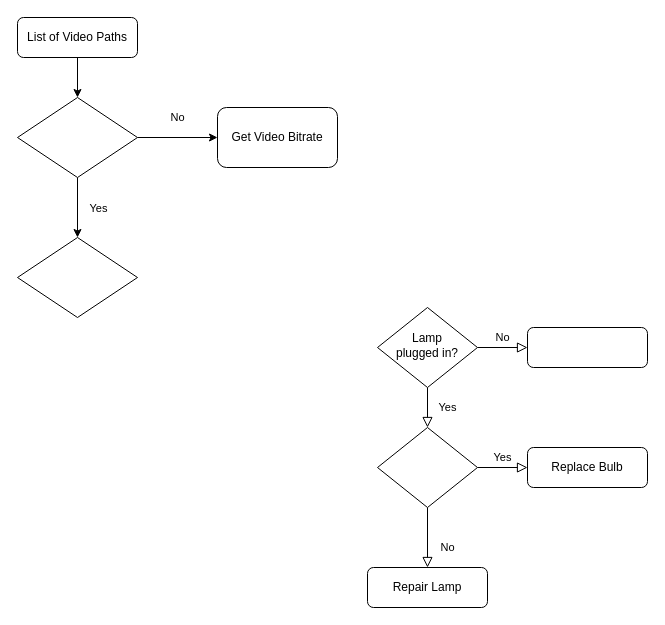
Some shapes in this 665 by 625 pixel diagram are drawn without their labels. The shapes that lost their labels are listed below. From the top down, each one's centre as x and y in pixels, then its label:
At pixel 77 137: "DVD Directory?".
At pixel 587 347: "Plug in lamp".
At pixel 427 467: "Bulb burned out?".
